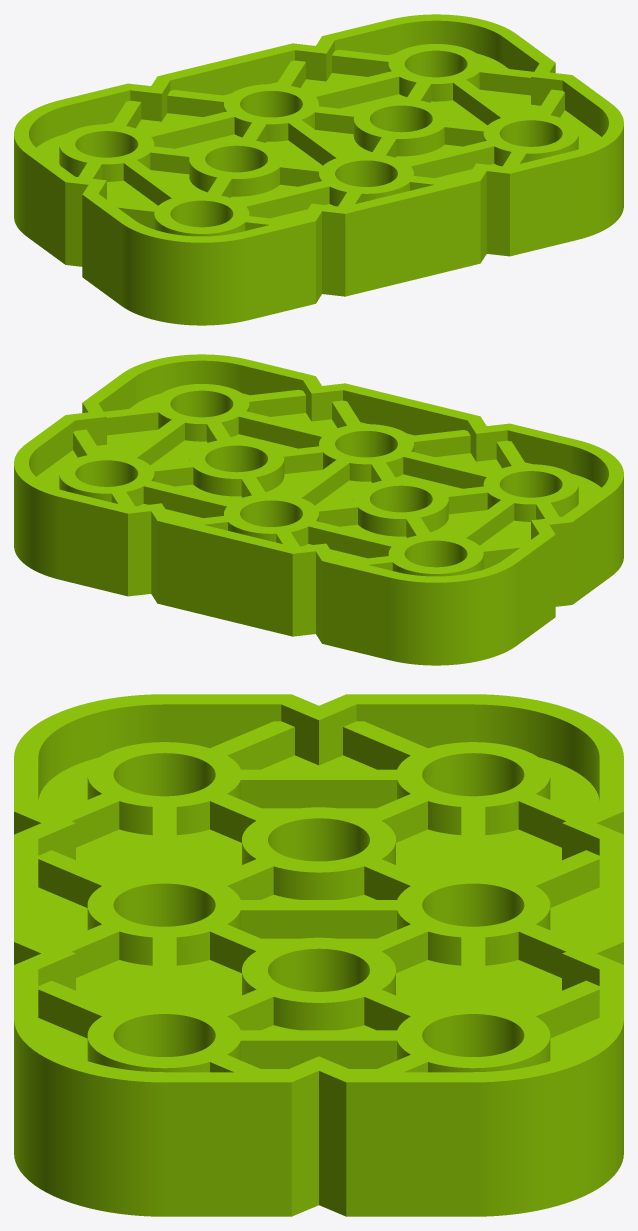
The picture shows the model from 3 angles, top to bottom: view 1: azimuth 30°, elevation 25°; view 2: azimuth 150°, elevation 25°; view 3: azimuth 270°, elevation 25°; orthographic projection. The views are drawn at different scales.
Visible parts, largest first — view 1: 228-2500-018; view 2: 228-2500-018; view 3: 228-2500-018.
Boxes of the visible parts, left/top/right/bottom form: 228-2500-018: left=14, top=14, right=623, bottom=325; 228-2500-018: left=14, top=354, right=623, bottom=665; 228-2500-018: left=14, top=694, right=623, bottom=1216.
Bounding box in the file's own units: 0.0378 × 0.0061 × 0.0251.
